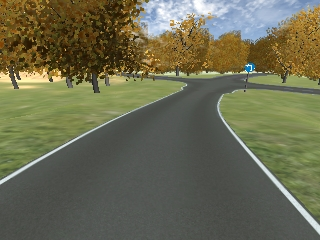left: (243, 63, 256, 74)
